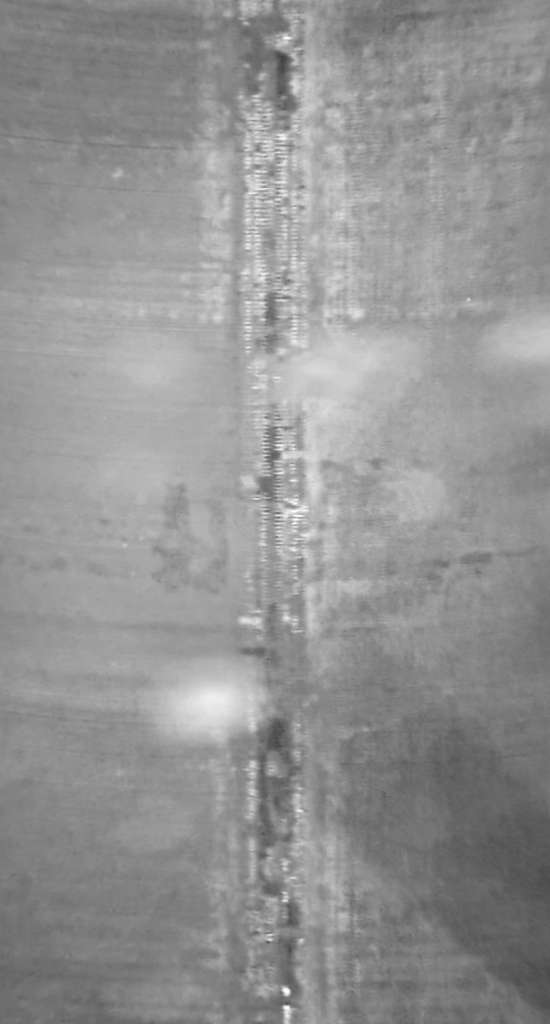splice: (228, 1, 324, 1024)
